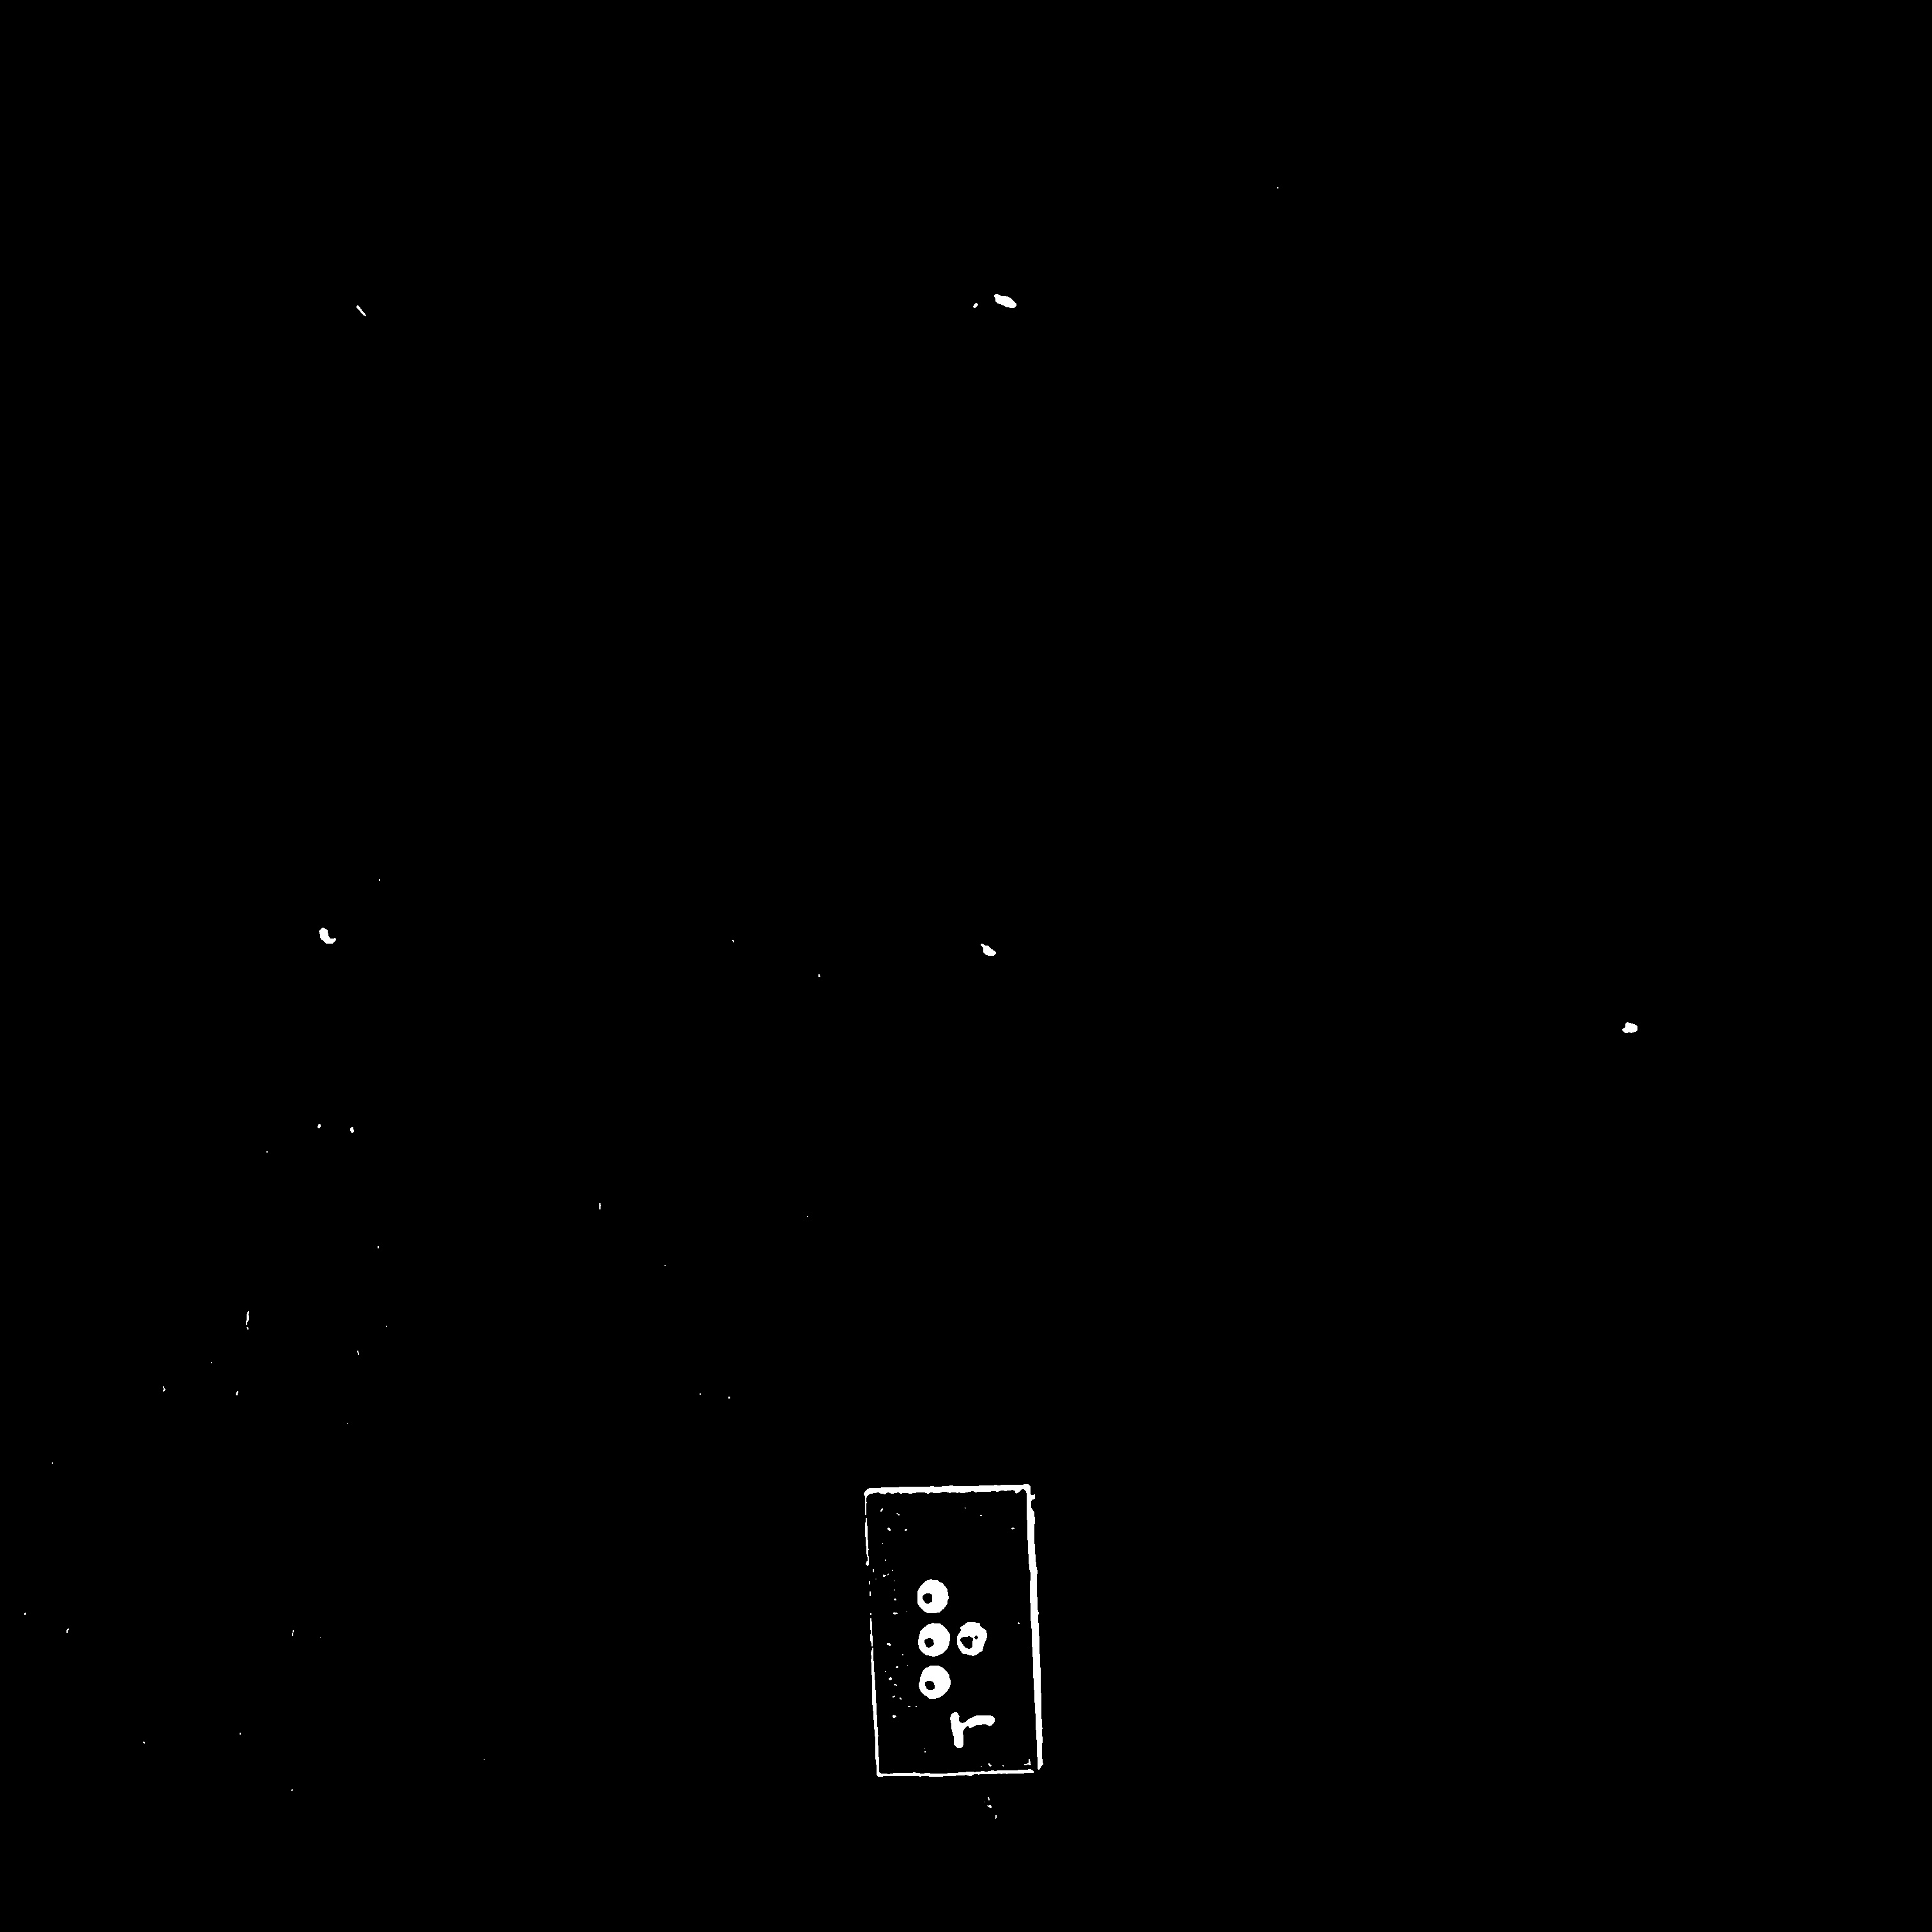r: (894, 1562, 1006, 1711)
